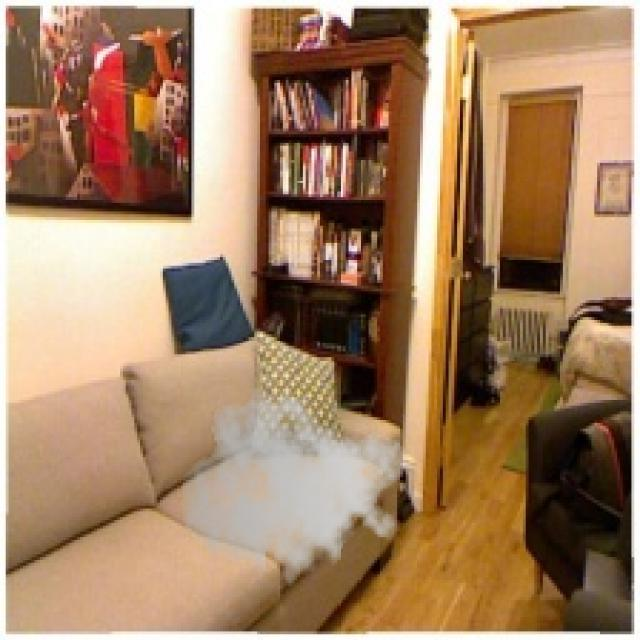smoke: (180, 380, 409, 597)
